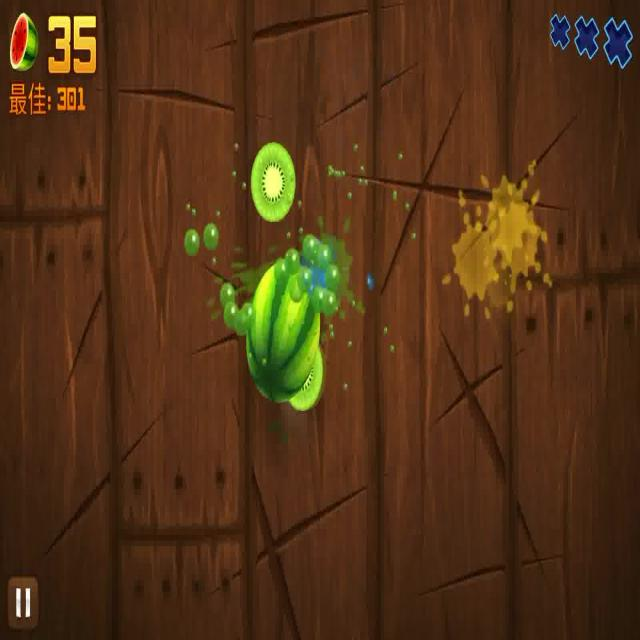fruit: (247, 262, 320, 406), (250, 140, 294, 221), (292, 345, 324, 416)
